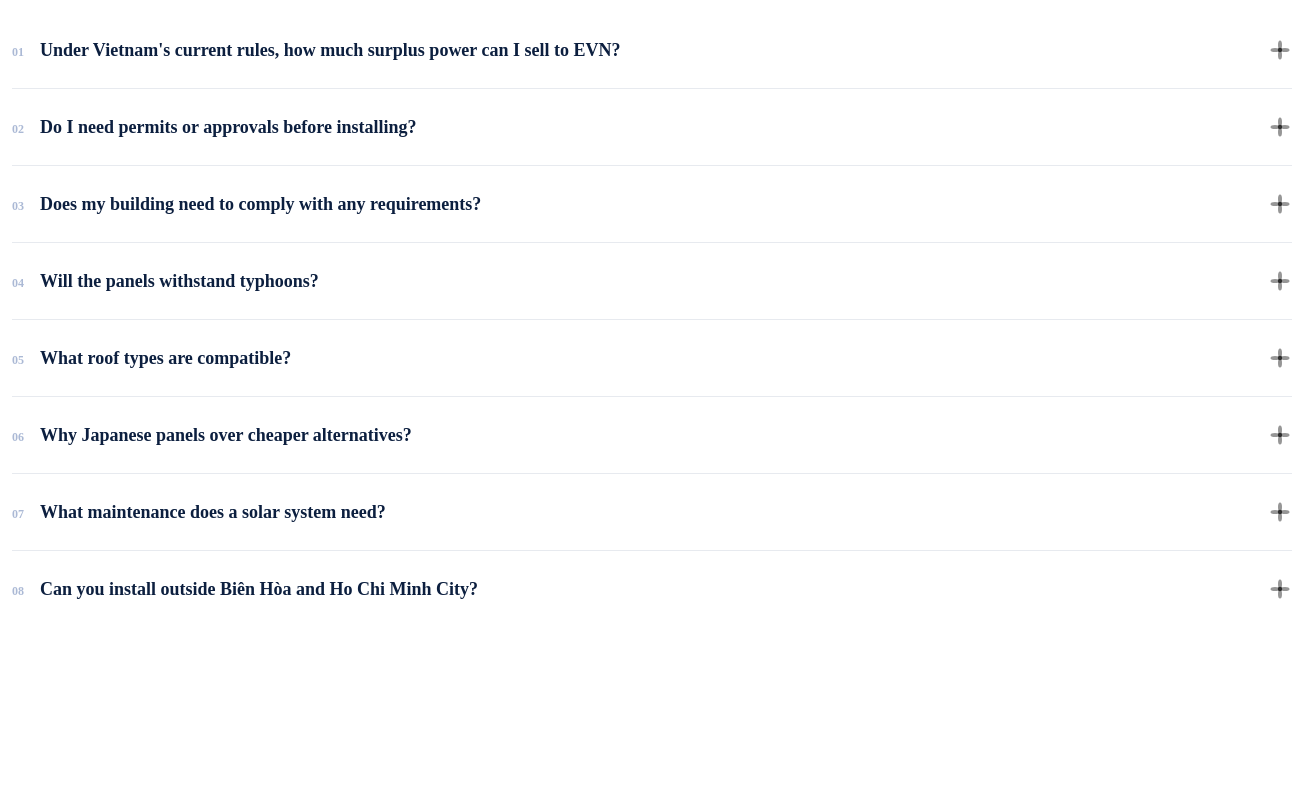
Test: PricingFAQ › only keeps one question open at a time
The image size is (1304, 812).
Click the 1st button at (330, 50), box x1=12 y1=12 x2=1292 y2=88
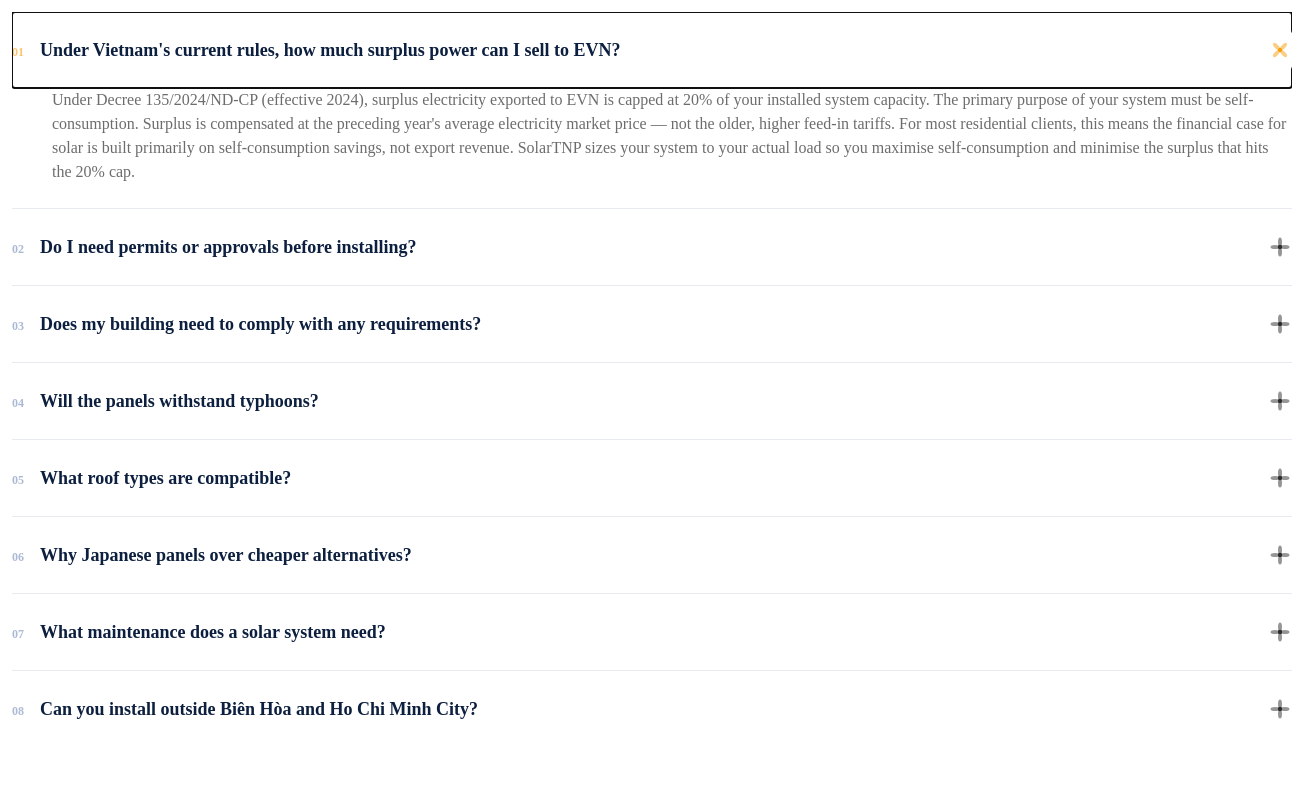
Click the button "02 Do I need permits or approvals before installing?" at (228, 247), box x1=12 y1=209 x2=1292 y2=285
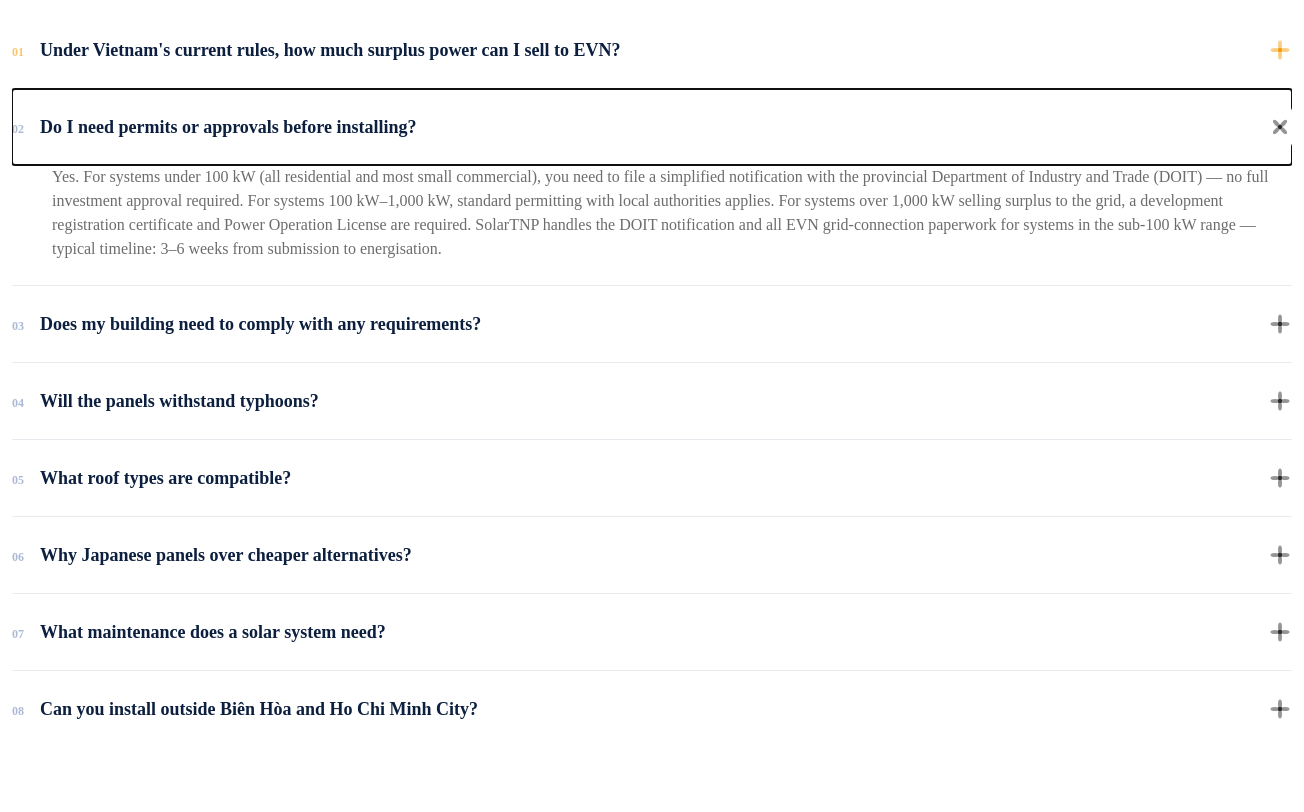
Check: the 1st button is collapsed, box x1=12 y1=12 x2=1292 y2=88
Check: the button "02 Do I need permits or approvals before installing?" is expanded, box x1=12 y1=89 x2=1292 y2=165
